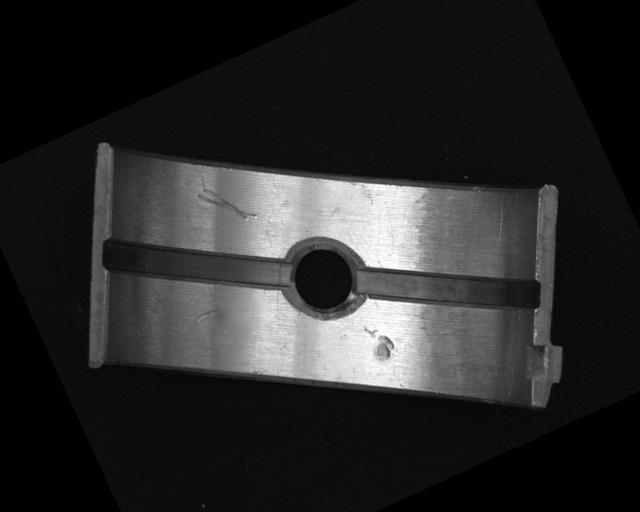bruise: (361, 317, 399, 366)
gap: (93, 176, 294, 351), (354, 204, 545, 370)
hole: (270, 229, 373, 332)
nick: (194, 172, 258, 239), (193, 305, 221, 322)
